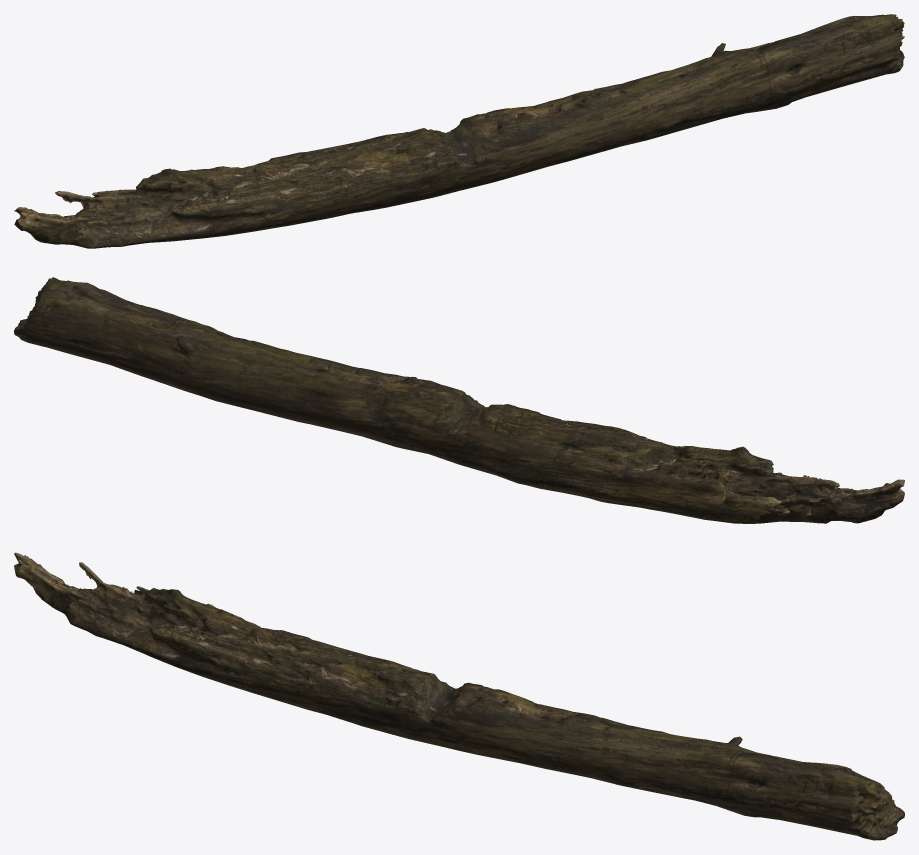
The model's file is dead_tree_trunk.glb.
3 views of the same model, one above another, from view 1: azimuth 30°, elevation 25°; view 2: azimuth 150°, elevation 25°; view 3: azimuth 330°, elevation 25° (orthographic).
Parts seen in each view (by area): view 1: dead_tree_trunk; view 2: dead_tree_trunk; view 3: dead_tree_trunk.
Boxes of the visible parts, x1=… form: dead_tree_trunk: x1=14, y1=14, x2=904, y2=248; dead_tree_trunk: x1=14, y1=277, x2=904, y2=523; dead_tree_trunk: x1=14, y1=552, x2=904, y2=840.
Bounding box in the file's own units: 3.05 × 0.2898 × 0.2775.
1 material, 1 textured.
